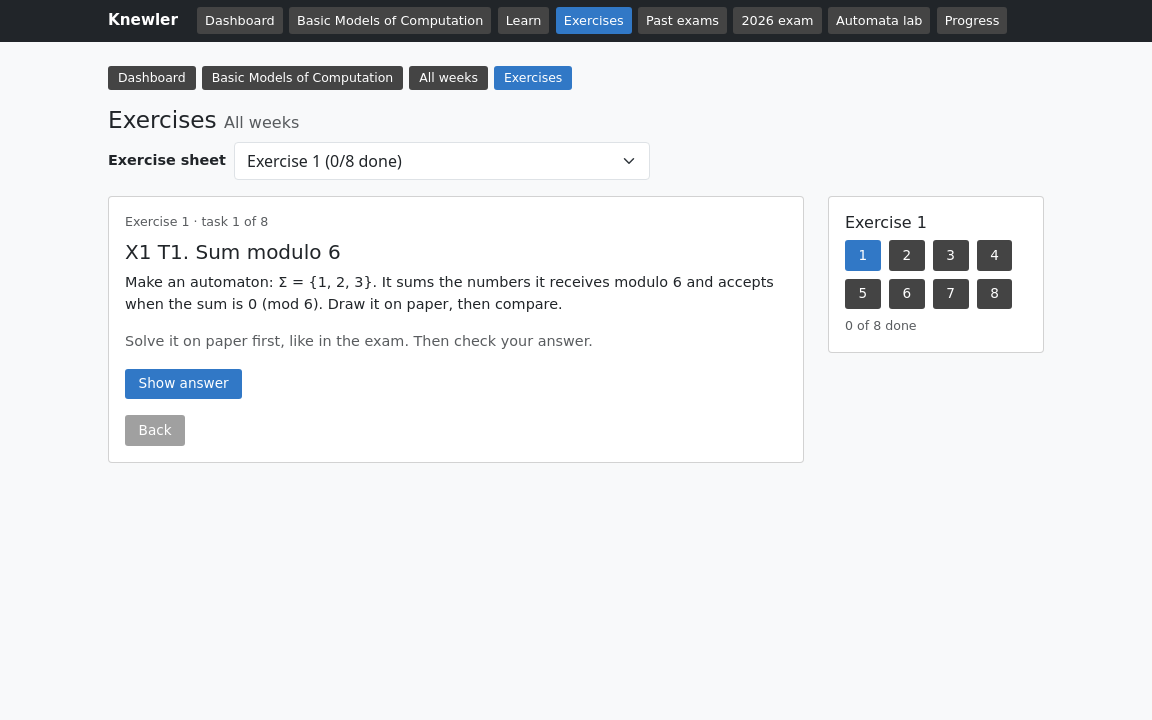
Basic Models of Computation: Learn (PDFs) and Exercises only › shows one exercise sheet at a time, picked from a dropdown grouped by week
Expected: the text "Exercise 1 · task 1 of 8" is shown, x1=125 y1=214 x2=268 y2=229
Click the button named "Exercise 1, task 3" at (951, 256), box x1=933 y1=240 x2=968 y2=271
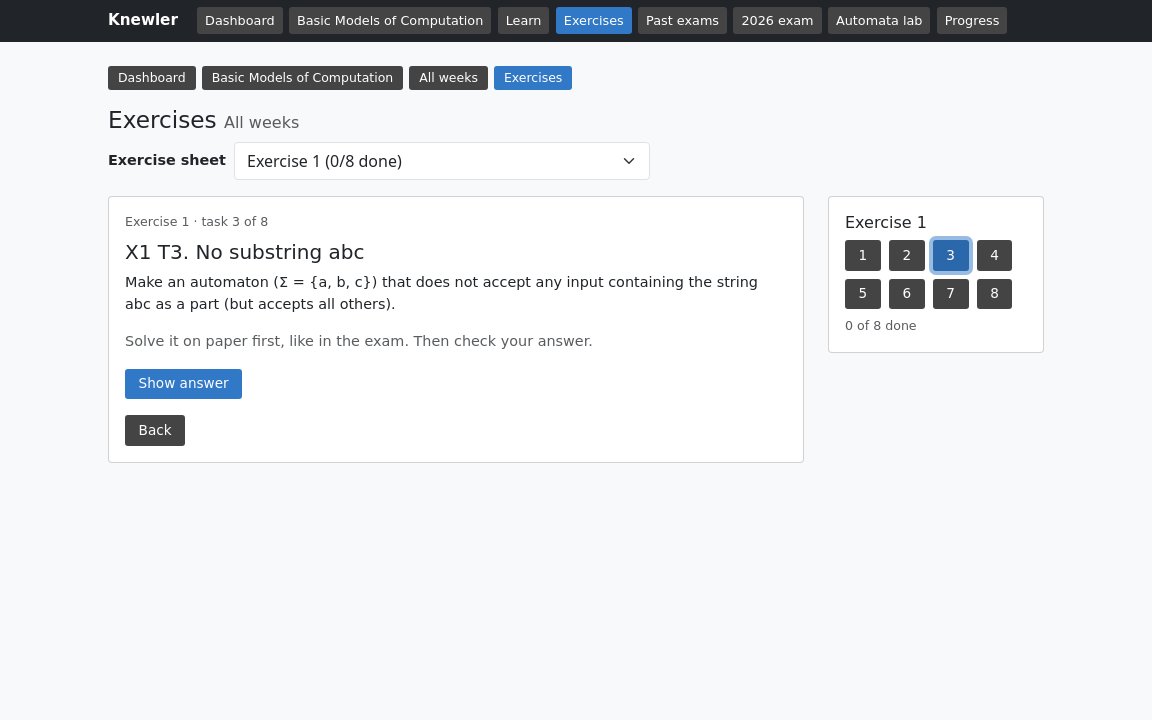
Select "Exercise 4 (0/6 done)" in the dropdown labelled "Exercise sheet" at (442, 161), box x1=234 y1=142 x2=650 y2=180
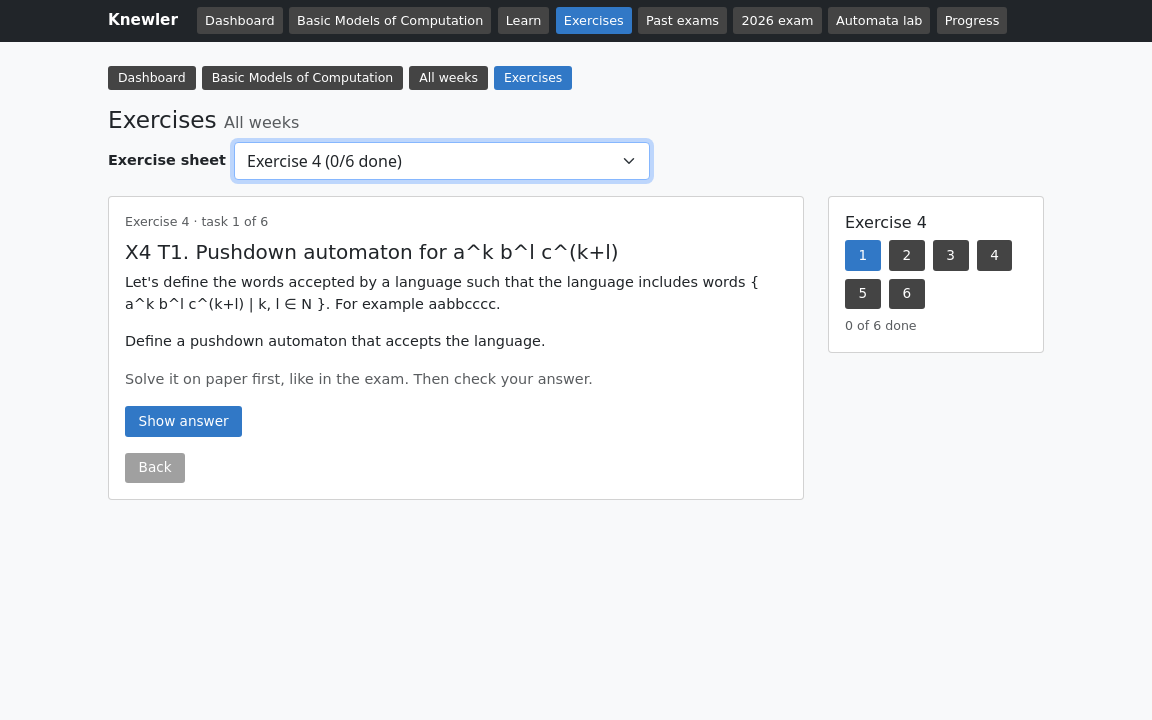
Result: the text "Exercise 4 · task 1 of 6" is shown at x1=125 y1=214 x2=268 y2=229
